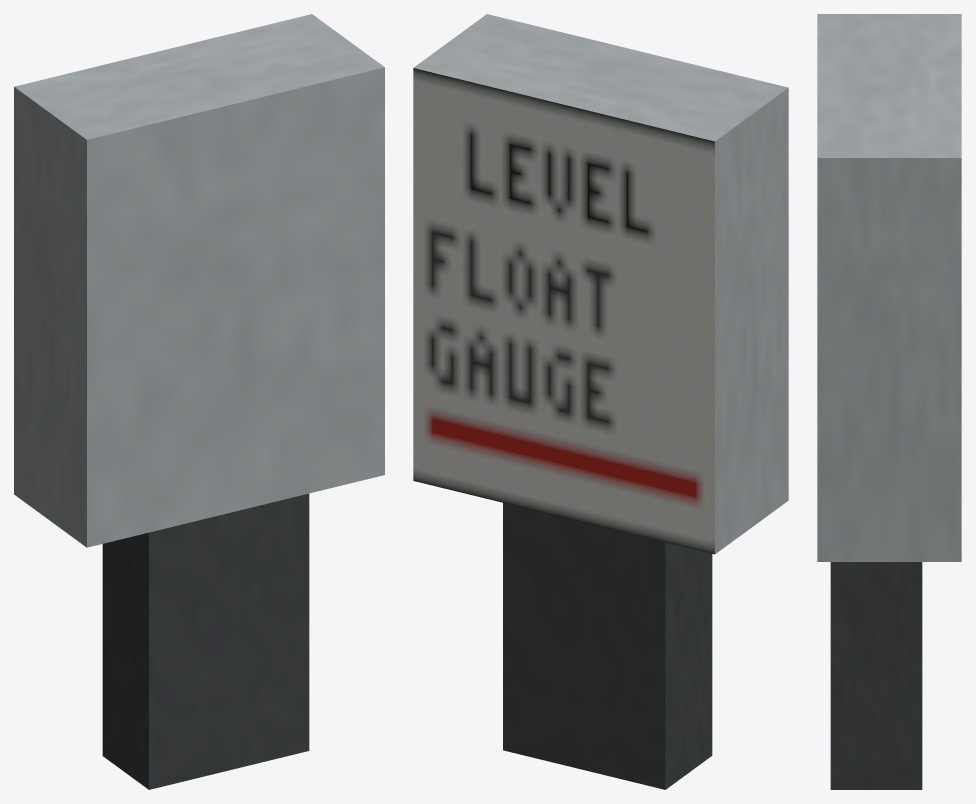
The model's file is body.obj.
3 renders of one model, left to right at view 1: azimuth 30°, elevation 25°; view 2: azimuth 150°, elevation 25°; view 3: azimuth 270°, elevation 25°, orthographic. The views are drawn at different scales.
Size of the model in its own units: 0.26 by 0.56 by 0.11.
